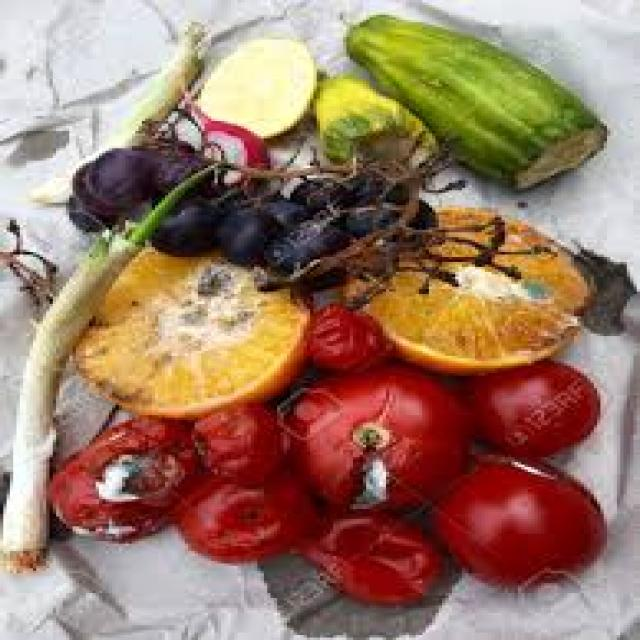organic waste: (0, 161, 211, 568), (340, 10, 607, 188), (340, 205, 594, 371), (66, 237, 310, 408), (23, 25, 208, 205), (280, 361, 462, 511), (432, 452, 600, 581), (43, 415, 201, 541), (297, 506, 435, 606), (188, 32, 310, 136), (310, 72, 432, 173), (172, 474, 320, 556), (465, 361, 597, 452), (178, 86, 267, 190), (192, 403, 280, 484), (567, 237, 637, 331), (0, 218, 63, 322), (307, 299, 386, 371), (132, 188, 224, 245), (333, 193, 432, 242), (83, 143, 155, 205), (211, 202, 274, 266), (267, 217, 340, 267), (73, 156, 128, 218), (145, 143, 211, 193), (327, 173, 402, 203), (63, 185, 102, 230), (241, 190, 303, 218), (287, 173, 346, 200)
